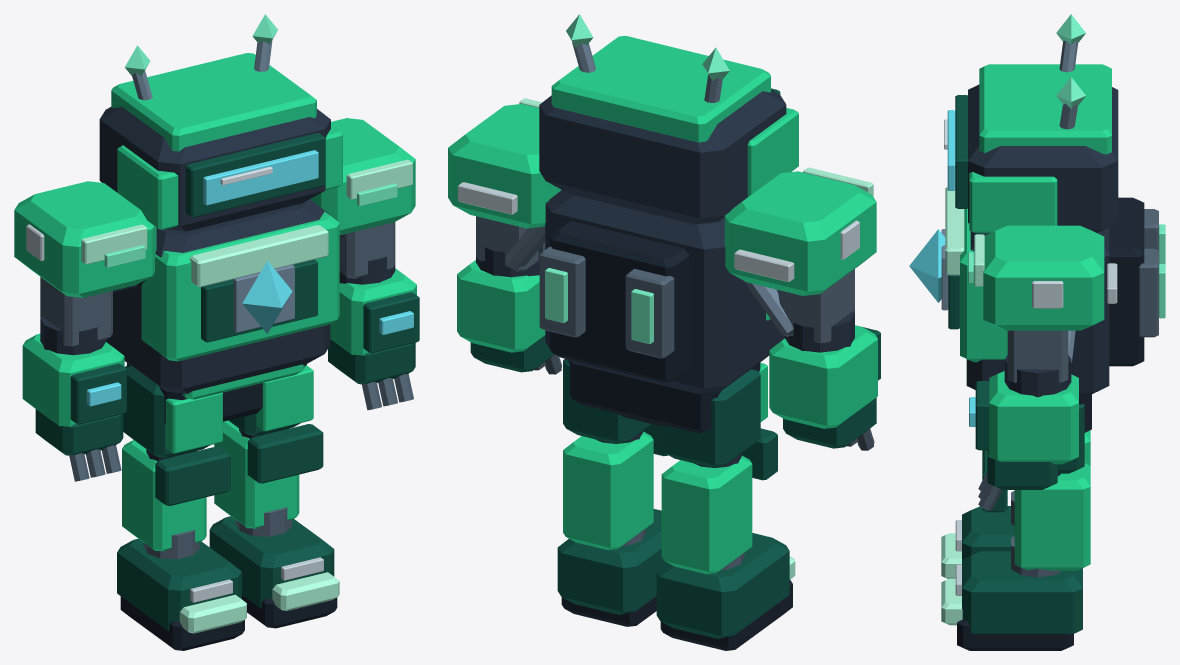
The model's file is S2_FriendlyMiniBot.obj.
3 views of the same model, side by side, from view 1: azimuth 30°, elevation 25°; view 2: azimuth 150°, elevation 25°; view 3: azimuth 270°, elevation 25° (orthographic). The views are drawn at different scales.
Visible parts, largest first — view 1: P12_MainTorsoFrame_23, P12_HelmetArmourCrown_66, P12_MassiveShoulderCap_30, P12_Breastplate_24, P12_OversizedHelmet_65, P12_MassiveTacticalBoot_2, P12_MassiveTacticalBoot_12, P12_MassiveShoulderCap_45, P12_LowerShinArmour_5, P12_ArmourRib_25, P12_BroadVisorBezel_67, P12_ArmoredForearm_35 (+37 smaller); view 2: P12_OversizedHelmet_65, P12_MainTorsoFrame_23, P12_HelmetArmourCrown_66, P12_MassiveShoulderCap_30, P12_Backpack_59, P12_LowerShinArmour_5, P12_LowerShinArmour_15, P12_MassiveTacticalBoot_2, P12_MassiveShoulderCap_45, P12_ArmoredForearm_35, P12_MassiveTacticalBoot_12, P12_ArmoredForearm_50 (+21 smaller); view 3: P12_MassiveShoulderCap_45, P12_HelmetArmourCrown_66, P12_OversizedHelmet_65, P12_MassiveTacticalBoot_12, P12_LowerShinArmour_15, P12_ArmoredForearm_50, P12_Backpack_59, P12_HelmetCheek_74, P12_MainTorsoFrame_23, P12_Breastplate_24, P12_BicepsMechanism_48, P12_MassiveTacticalBoot_2 (+25 smaller).
Part boxes in pixels (<box>): P12_MainTorsoFrame_23: <box>106,199,330,393</box>; P12_HelmetArmourCrown_66: <box>111,53,316,151</box>; P12_MassiveShoulderCap_30: <box>14,181,156,297</box>; P12_Breastplate_24: <box>141,211,339,361</box>; P12_OversizedHelmet_65: <box>99,107,330,231</box>; P12_MassiveTacticalBoot_2: <box>117,538,241,630</box>; P12_MassiveTacticalBoot_12: <box>209,516,334,608</box>; P12_MassiveShoulderCap_45: <box>310,118,415,234</box>; P12_LowerShinArmour_5: <box>122,440,206,551</box>; P12_ArmourRib_25: <box>189,225,328,287</box>; P12_BroadVisorBezel_67: <box>185,133,325,217</box>; P12_ArmoredForearm_35: <box>22,333,124,426</box>; P12_OversizedHelmet_65: <box>539,89,786,224</box>; P12_MainTorsoFrame_23: <box>545,190,784,393</box>; P12_HelmetArmourCrown_66: <box>551,35,770,142</box>; P12_MassiveShoulderCap_30: <box>724,171,876,295</box>; P12_Backpack_59: <box>550,221,689,382</box>; P12_LowerShinArmour_5: <box>661,455,752,574</box>; P12_LowerShinArmour_15: <box>563,431,653,550</box>; P12_MassiveTacticalBoot_2: <box>656,533,789,638</box>; P12_MassiveShoulderCap_45: <box>448,104,561,228</box>; P12_ArmoredForearm_35: <box>769,325,877,428</box>; P12_MassiveTacticalBoot_12: <box>557,509,667,614</box>; P12_ArmoredForearm_50: <box>457,260,545,352</box>; P12_MassiveShoulderCap_45: <box>983,225,1104,330</box>; P12_HelmetArmourCrown_66: <box>979,64,1111,154</box>; P12_OversizedHelmet_65: <box>968,84,1118,232</box>; P12_MassiveTacticalBoot_12: <box>962,551,1082,634</box>; P12_LowerShinArmour_15: <box>1014,463,1090,570</box>; P12_ArmoredForearm_50: <box>989,371,1078,464</box>; P12_Backpack_59: <box>1109,197,1144,366</box>; P12_HelmetCheek_74: <box>969,172,1057,233</box>; P12_MainTorsoFrame_23: <box>966,227,1109,399</box>; P12_Breastplate_24: <box>960,208,1007,362</box>; P12_BicepsMechanism_48: <box>1007,330,1068,382</box>; P12_MassiveTacticalBoot_2: <box>962,506,1014,559</box>.
Bounding box in the file's own units: 2.14 × 3.21 × 1.31.
